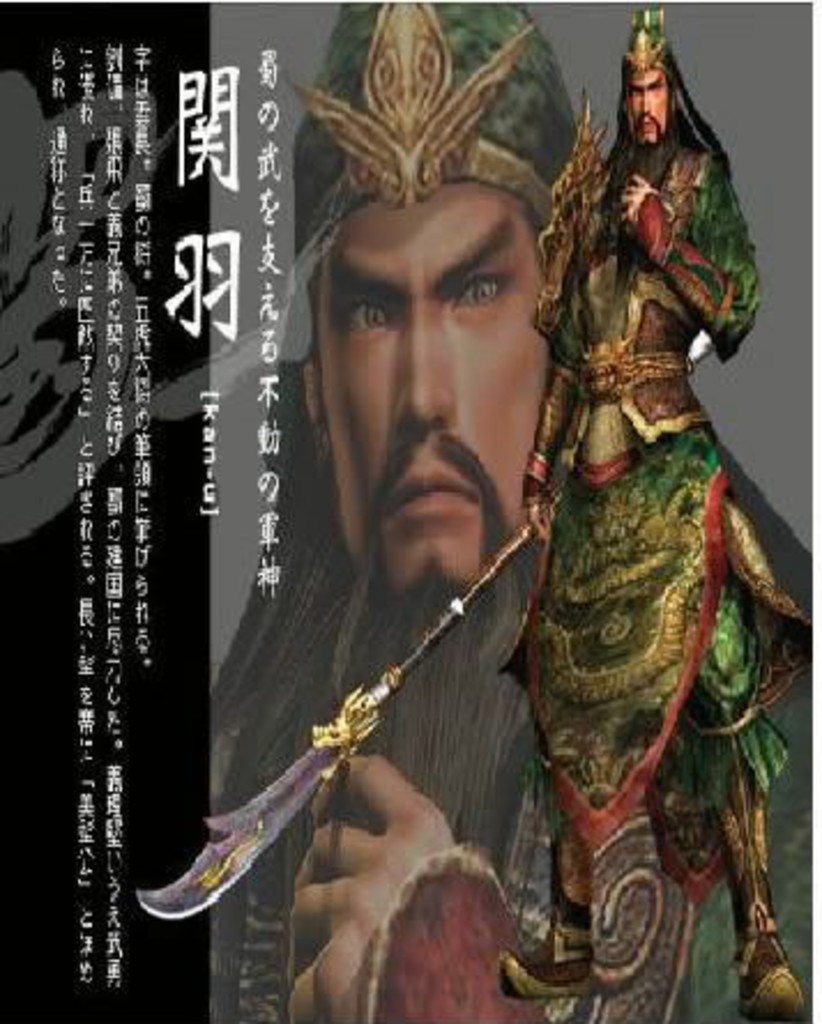Person: (207, 0, 574, 1024), (529, 6, 811, 1024)
